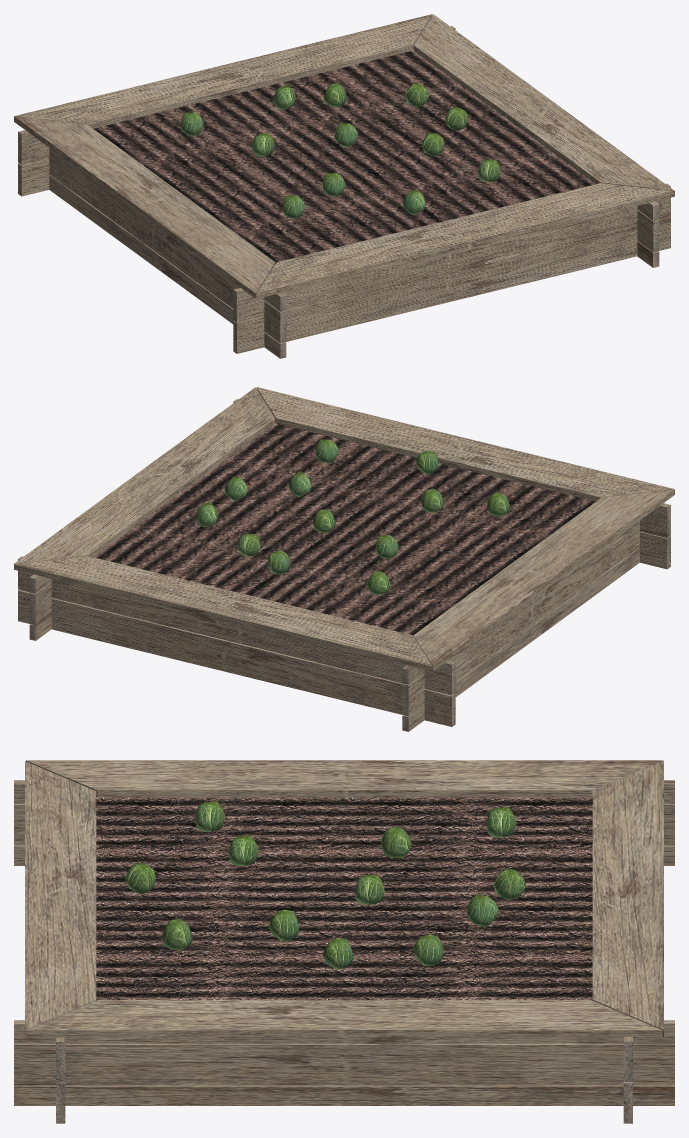
File: cabbage-young.dae
3 renders of one model, top to bottom at view 1: azimuth 30°, elevation 25°; view 2: azimuth 150°, elevation 25°; view 3: azimuth 270°, elevation 25°, orthographic. The views are drawn at different scales.
Visible parts, largest first — view 1: dirt, plank_06_Cube_009, top_3_Cube_021, top_1_Cube_016, top_2_Cube_022, top_4_Cube_023, plank_07_Cube_010, plank_04_Cube_006, plank_03_Cube_004, plank_01_Cube_02, plank_02_Cube_03, plank_09_Cube_013; view 2: dirt, plank_01_Cube_02, top_1_Cube_016, top_3_Cube_021, top_2_Cube_022, top_4_Cube_023, plank_02_Cube_03, plank_04_Cube_006, plank_03_Cube_004, plank_06_Cube_009, plank_07_Cube_010, plank_09_Cube_013; view 3: dirt, plank_09_Cube_013, top_4_Cube_023, top_2_Cube_022, top_1_Cube_016, top_3_Cube_021, plank_08_Cube_011, plank_10_Cube_014, plank_04_Cube_006, cabbage_10_SphFBXASC195FBXASC131_re_010, cabbage_12_SphFBXASC195FBXASC131_re_012, cabbage_01_SphFBXASC195FBXASC131_re (+9 smaller).
Boxes of the visible parts, box(x1,y1,x2,y2) form: dirt: box(93, 49, 595, 263); plank_06_Cube_009: box(233, 217, 670, 353); top_3_Cube_021: box(257, 183, 674, 298); top_1_Cube_016: box(14, 14, 432, 128); top_2_Cube_022: box(14, 116, 275, 298); top_4_Cube_023: box(414, 14, 674, 195); plank_07_Cube_010: box(233, 183, 670, 322); plank_04_Cube_006: box(48, 148, 286, 343); plank_03_Cube_004: box(49, 175, 286, 358); plank_01_Cube_02: box(18, 158, 49, 196); plank_02_Cube_03: box(18, 26, 455, 164); plank_09_Cube_013: box(637, 210, 659, 252); dirt: box(93, 422, 595, 635); plank_01_Cube_02: box(18, 590, 455, 726); top_1_Cube_016: box(14, 556, 432, 671); top_3_Cube_021: box(256, 387, 674, 501); top_2_Cube_022: box(413, 489, 674, 671); top_4_Cube_023: box(14, 387, 274, 564); plank_02_Cube_03: box(18, 556, 455, 695); plank_04_Cube_006: box(402, 521, 640, 716); plank_03_Cube_004: box(402, 548, 639, 731); plank_06_Cube_009: box(639, 531, 670, 569); plank_07_Cube_010: box(233, 399, 670, 537); plank_09_Cube_013: box(29, 583, 52, 625); dirt: box(96, 797, 592, 1000); plank_09_Cube_013: box(14, 1043, 674, 1085); top_4_Cube_023: box(26, 1000, 662, 1037); top_2_Cube_022: box(26, 760, 663, 797); top_1_Cube_016: box(592, 761, 663, 1036); top_3_Cube_021: box(25, 761, 96, 1036); plank_08_Cube_011: box(14, 1085, 674, 1105); plank_10_Cube_014: box(14, 1020, 674, 1043); plank_04_Cube_006: box(14, 804, 674, 845); cabbage_10_SphFBXASC195FBXASC131_re_010: box(466, 894, 498, 926); cabbage_12_SphFBXASC195FBXASC131_re_012: box(493, 868, 525, 900); cabbage_01_SphFBXASC195FBXASC131_re: box(486, 807, 516, 837).
Bounding box in the file's own units: 3.68 × 3.68 × 0.7052.
Materials: 4 (4 with a texture image).
